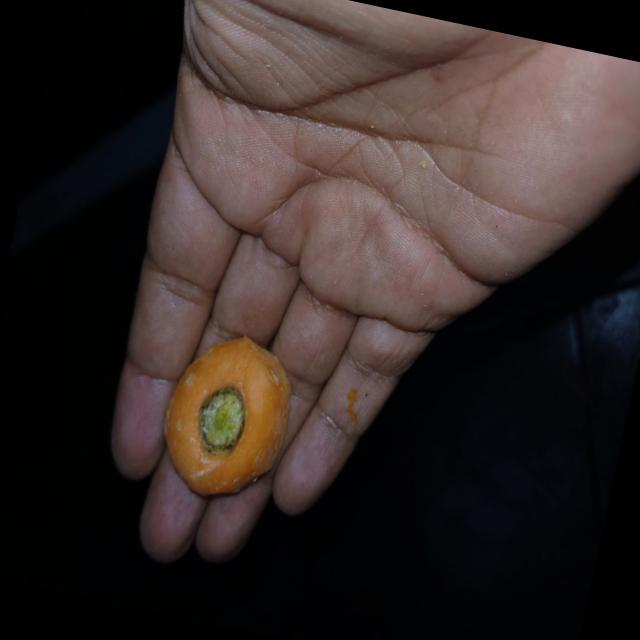organic: (151, 323, 303, 512)
